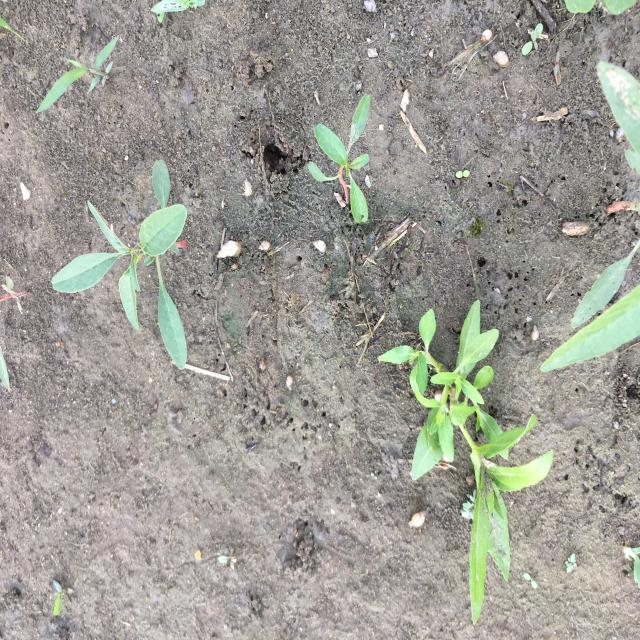Eclipta: (375, 299, 555, 627)
Waterhemp: (50, 157, 188, 372), (306, 92, 372, 226)
